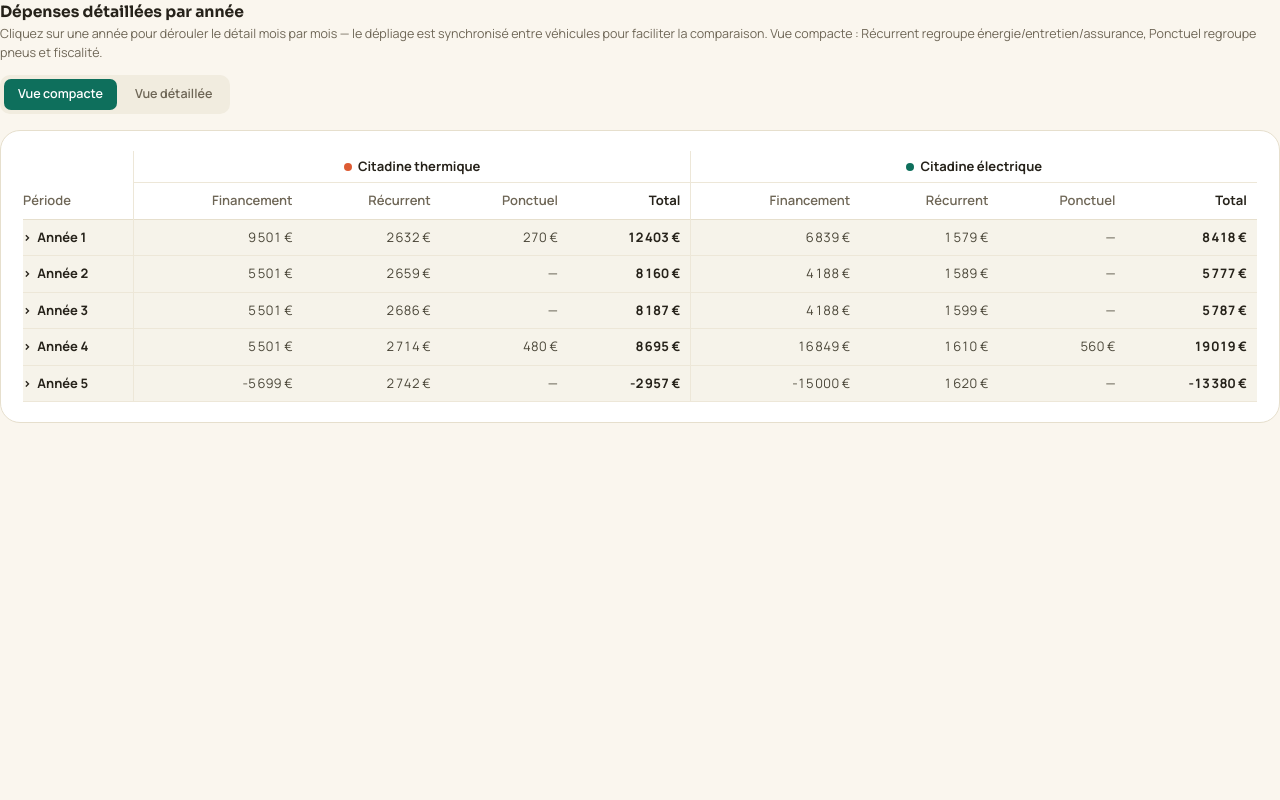
Test: MonthlyScheduleTable — compact view (default) › expands a year to show its 12 shared month rows, and collapses it back on a second click
What coordinates should you click on to do the following:
click the button "› Année 1"
I would click on:
 (55, 238)
Its box is [23,228,86,247].
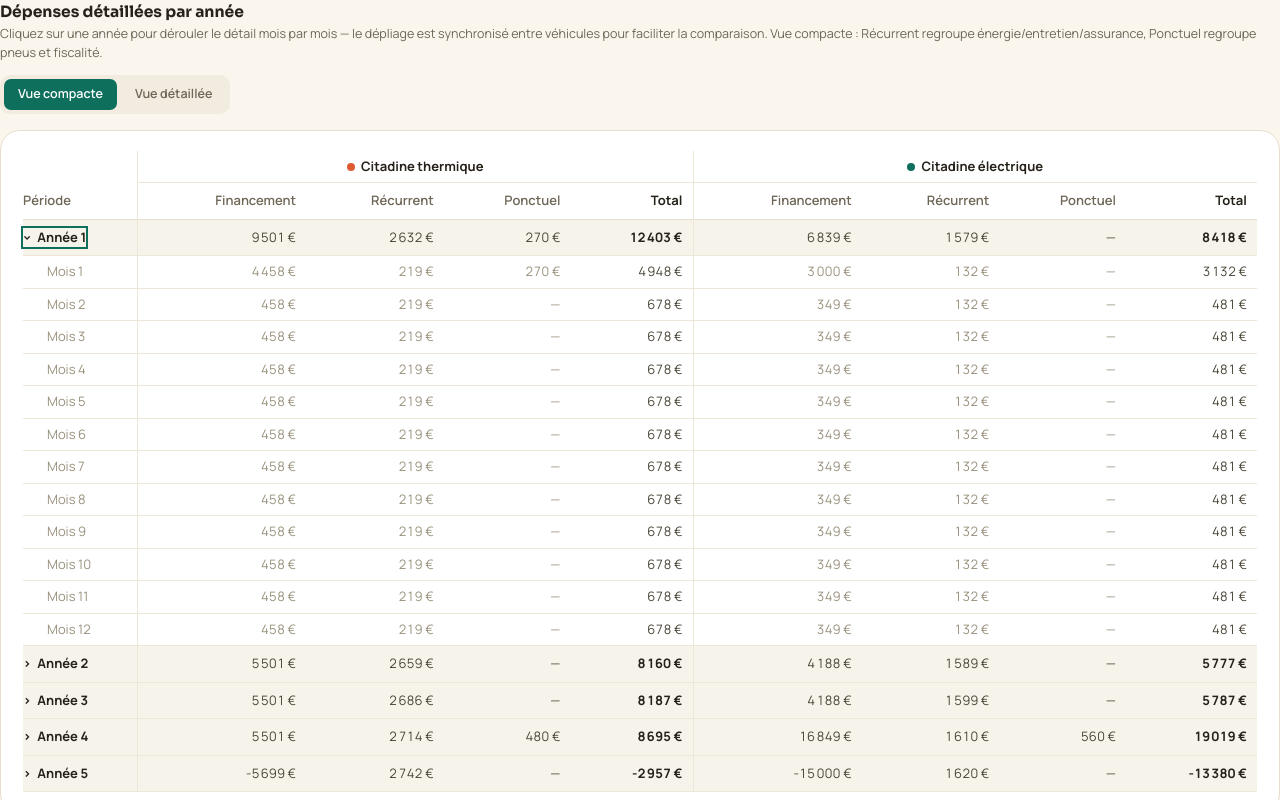
Expected: the text "Mois 1" is shown 12 times
What coordinates should you click on to do the following:
click the button "› Année 1"
I would click on:
 (55, 238)
Its box is [23,228,86,247].
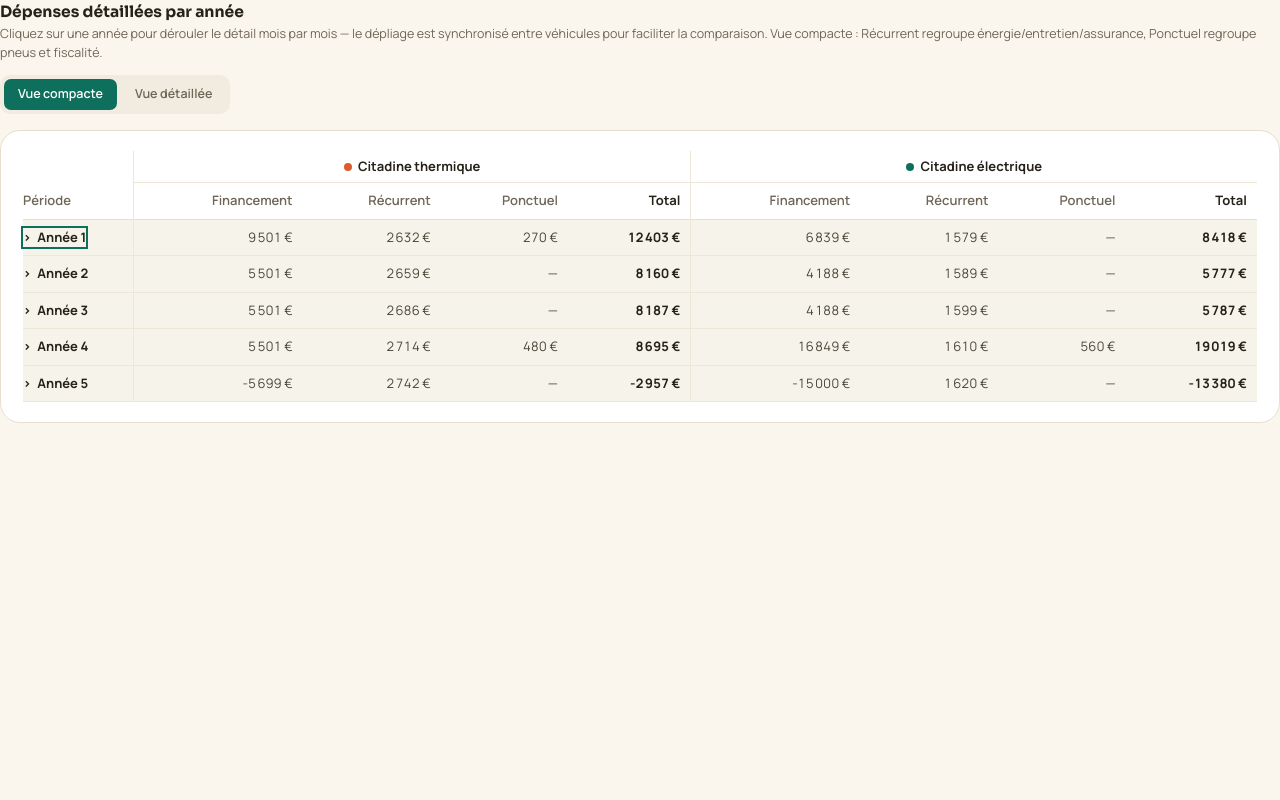
Expected: the text "Mois 1" is gone
